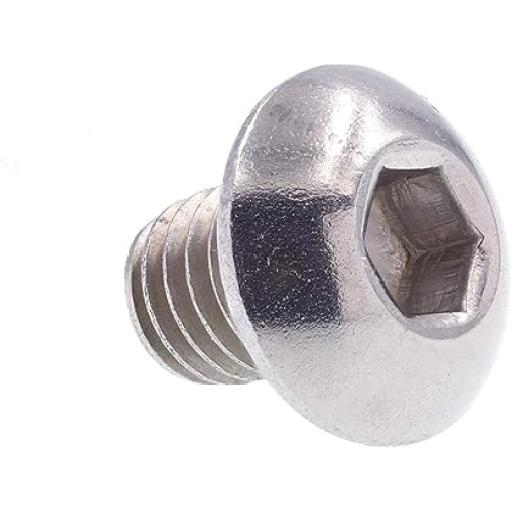Hex-Allen: (226, 61, 506, 448)
